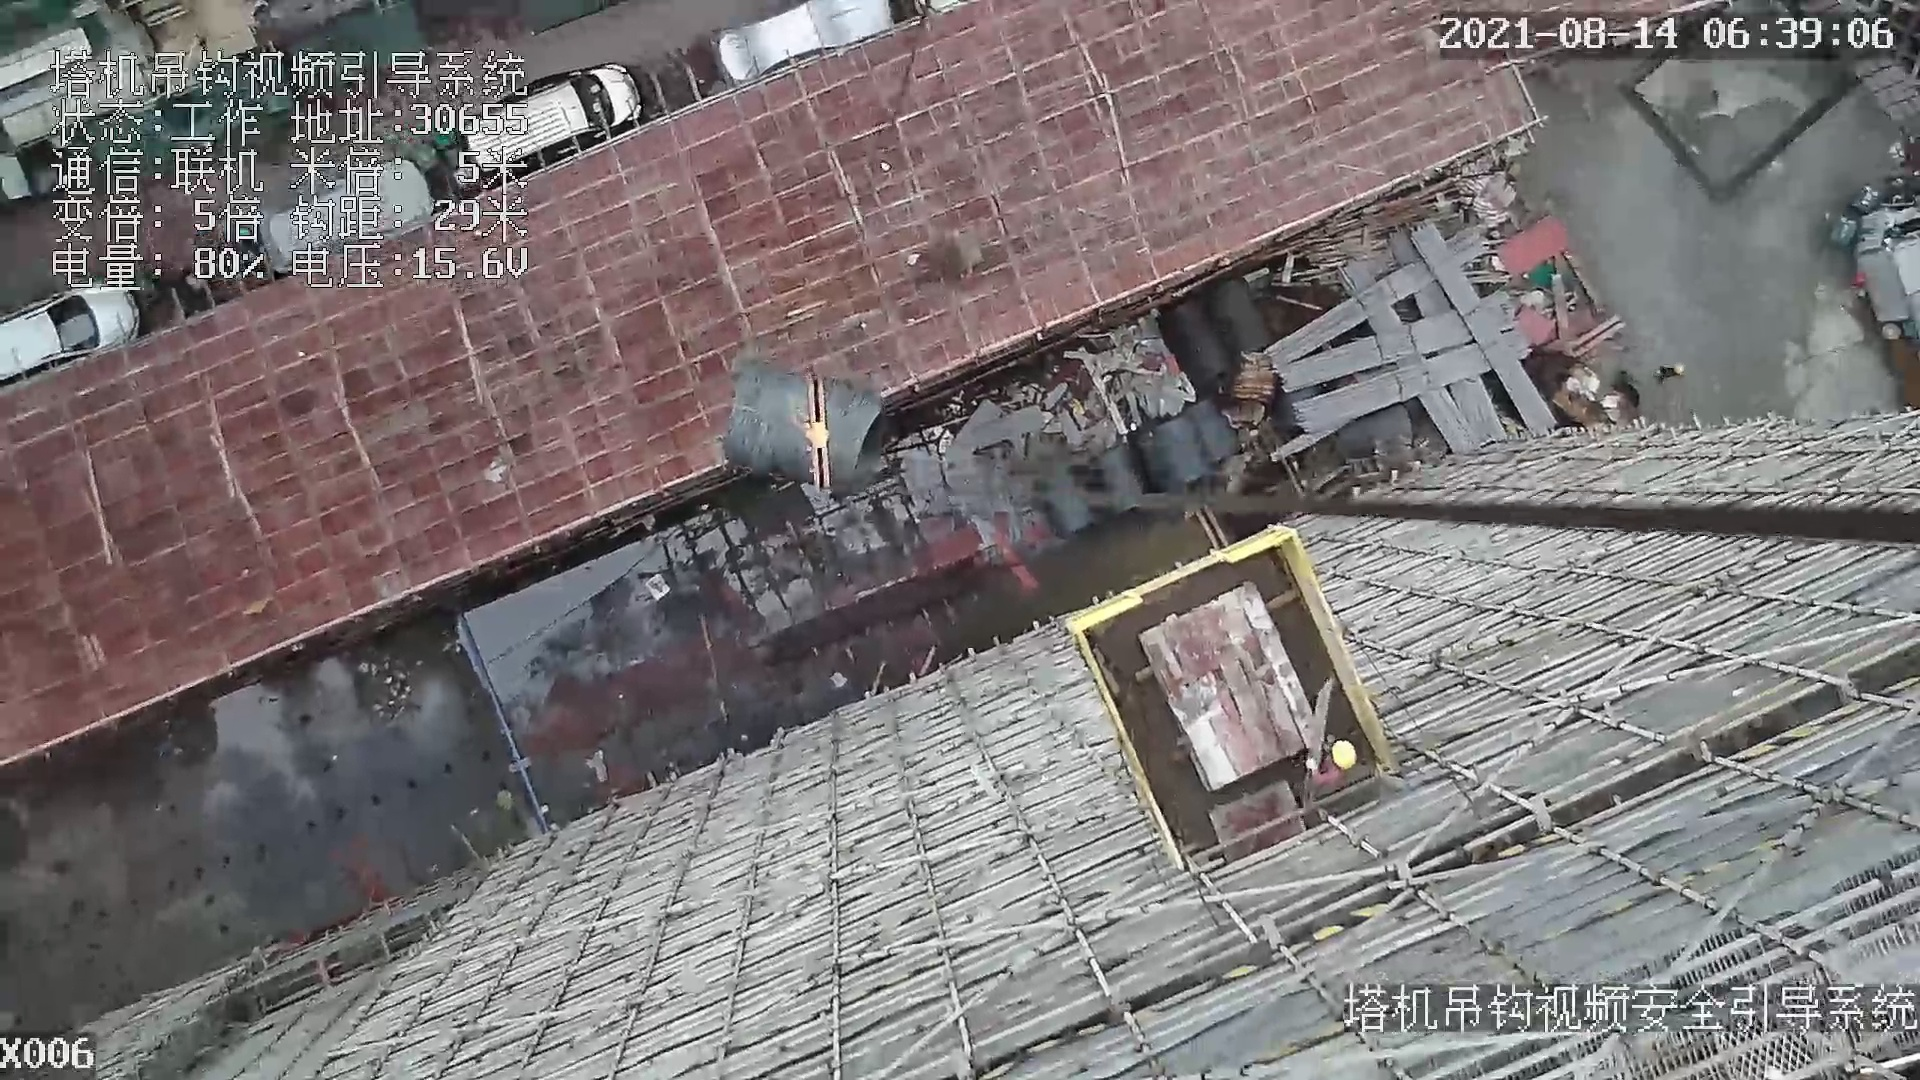helmet: (1329, 736, 1356, 774)
hook: (799, 380, 837, 494)
person: (1305, 733, 1360, 792)
